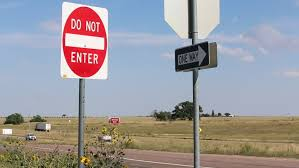doNotEnter: (61, 1, 110, 82)
oneWay: (173, 42, 210, 73)
